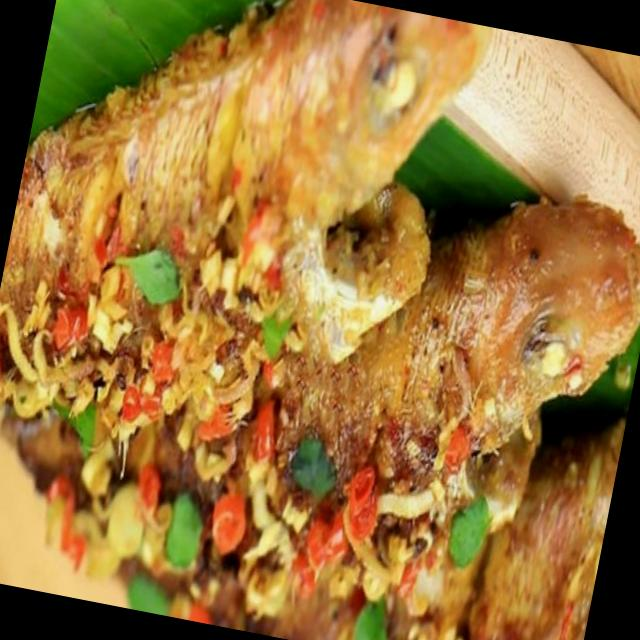ca chien: (2, 203, 640, 628), (0, 0, 488, 452)
